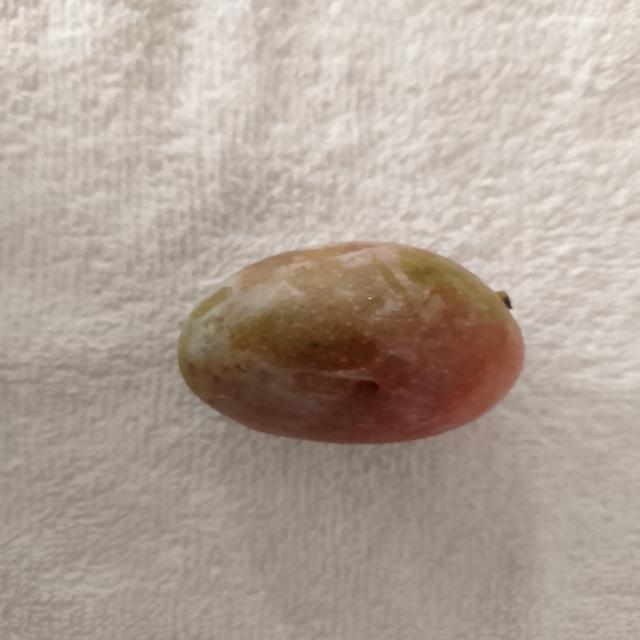mango: (172, 236, 538, 450)
